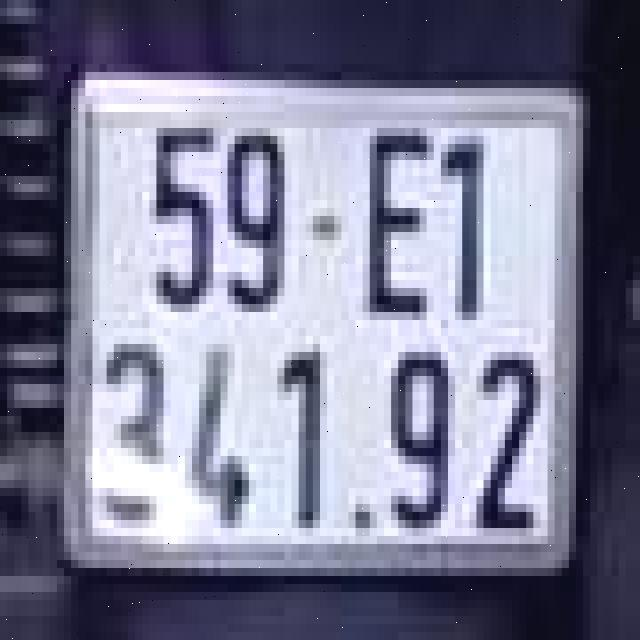1: (274, 328, 359, 552), (423, 120, 501, 336)
2: (473, 332, 558, 548)
3: (85, 332, 178, 532)
4: (185, 328, 263, 544)
5: (135, 104, 221, 328)
9: (206, 104, 299, 344), (370, 340, 469, 556)
E: (338, 116, 430, 348)
